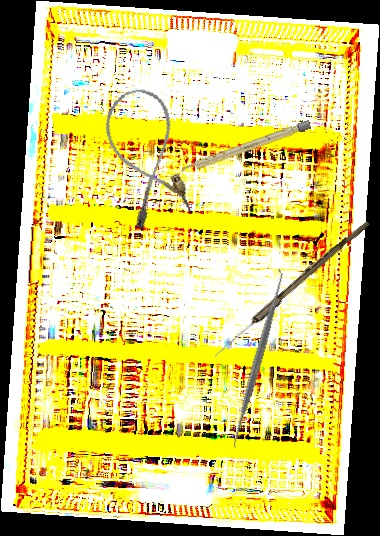Cannula: (97, 82, 196, 231)
Scalpel Handle: (179, 119, 312, 176)
Spatula Surgical: (222, 267, 294, 450)
Surgical Spoon: (211, 217, 371, 361)
